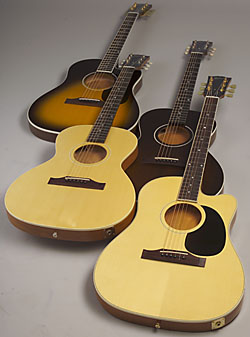guitar: (90, 74, 245, 333), (3, 53, 156, 245), (25, 3, 153, 145), (130, 37, 226, 197)
